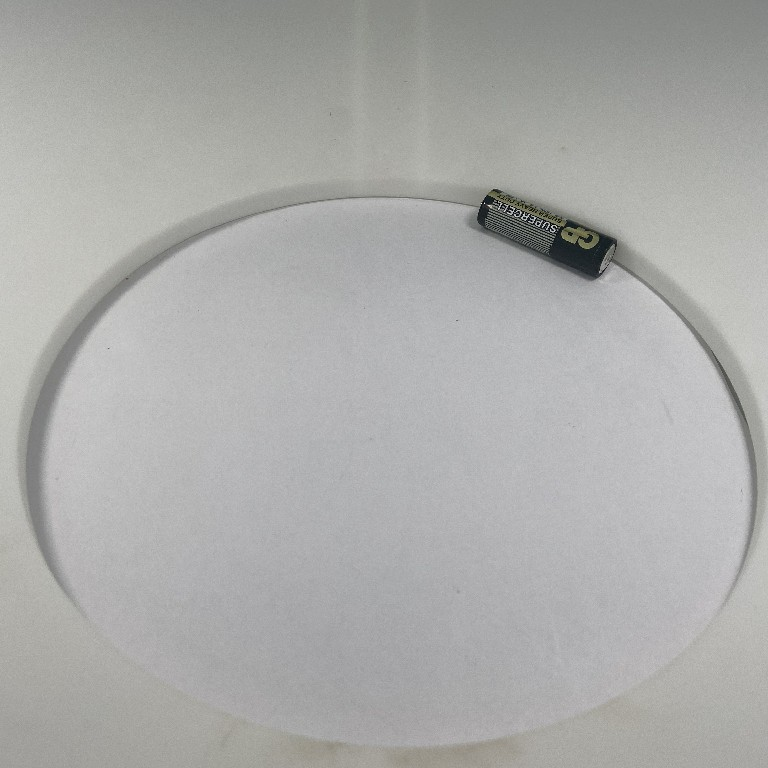charge: (473, 184, 622, 284)
